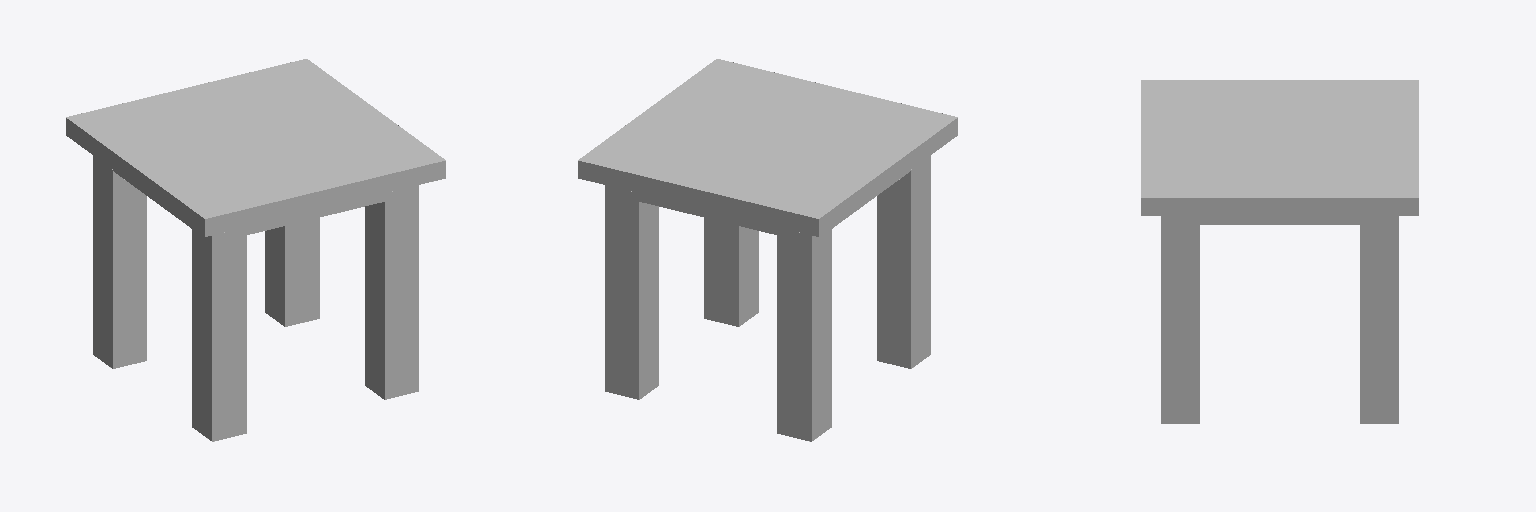
File: purple_table.obj
3 views of the same model, side by side, from view 1: azimuth 30°, elevation 25°; view 2: azimuth 150°, elevation 25°; view 3: azimuth 270°, elevation 25° (orthographic).
Visible parts, largest first — view 1: table 2; view 2: table 2; view 3: table 2.
Part boxes in pixels (bbox=[...]): table 2: bbox=[66, 59, 445, 441]; table 2: bbox=[578, 59, 957, 441]; table 2: bbox=[1141, 80, 1418, 423].
Bounding box in the file's own units: 14 × 13 × 14.